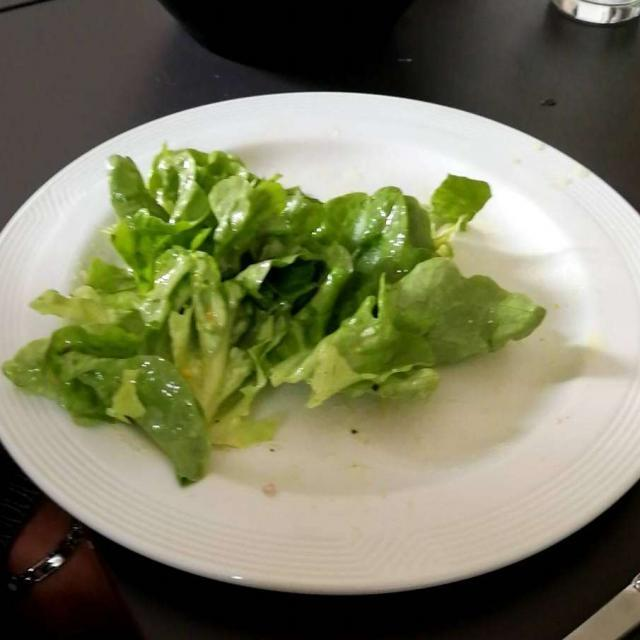salad: (20, 153, 535, 477)
